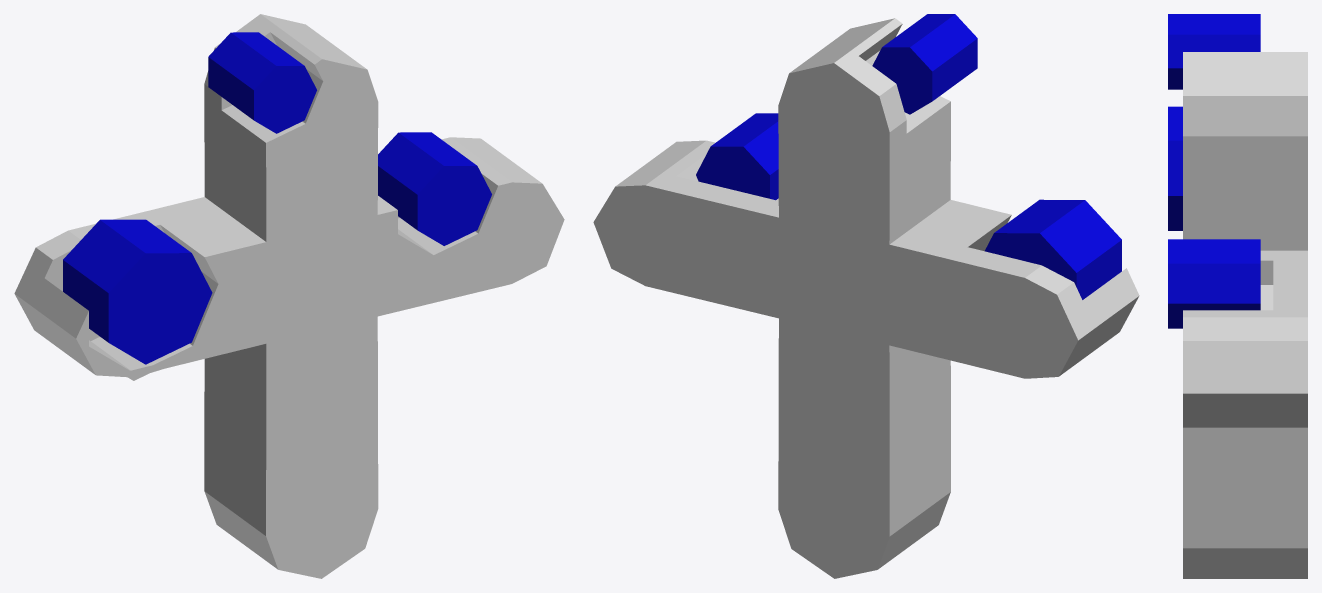
File: Ch_Lite_China_十_01.fbx
3 renders of one model, left to right at view 1: azimuth 30°, elevation 25°; view 2: azimuth 150°, elevation 25°; view 3: azimuth 270°, elevation 25°, orthographic.
Visible parts, largest first — view 1: sphere1; view 2: sphere1; view 3: sphere1.
Part boxes in pixels (bbox=[...]): sphere1: bbox=[14, 14, 564, 578]; sphere1: bbox=[593, 14, 1139, 578]; sphere1: bbox=[1168, 14, 1307, 578].
Size of the model in its own units: 0.9141 by 0.9498 by 0.2242.
